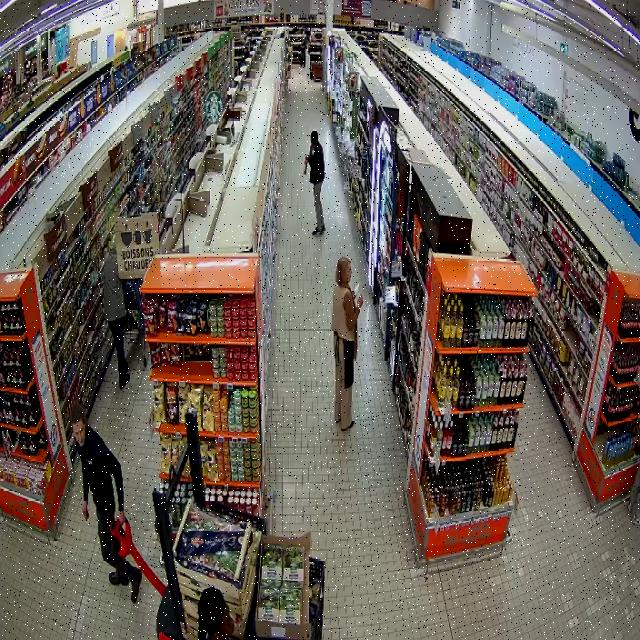article: (303, 160, 307, 174)
hands: (82, 501, 89, 520), (115, 511, 125, 523), (357, 294, 363, 308), (305, 154, 309, 164)
person: (72, 406, 142, 602), (333, 257, 362, 430), (102, 248, 129, 389), (305, 130, 325, 234)
